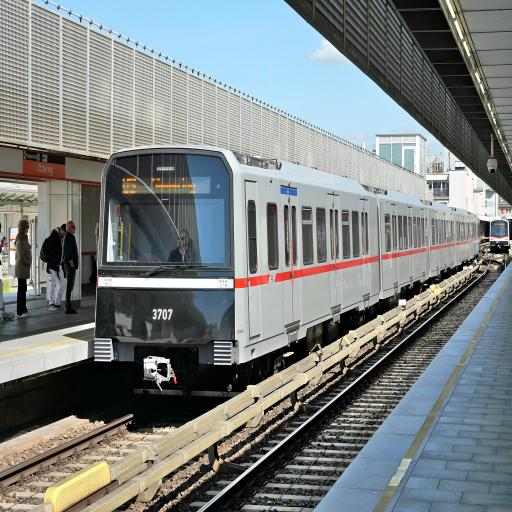X-Wagen: (91, 144, 479, 386)
